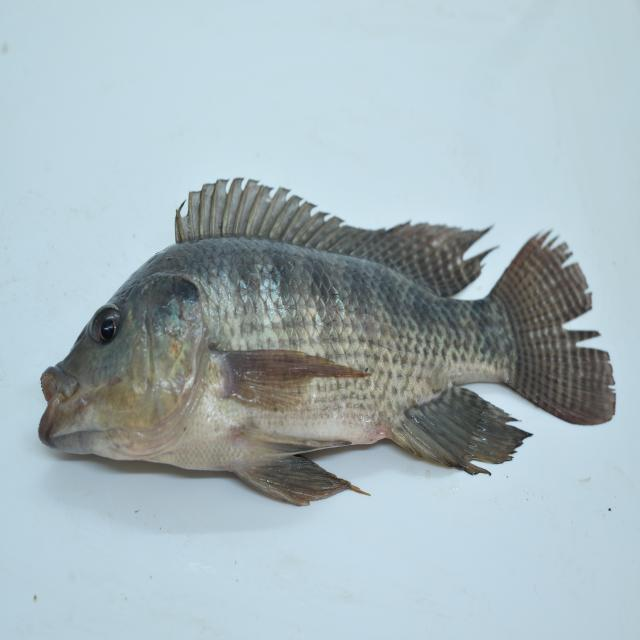Healthy Fish: (38, 176, 621, 509)
